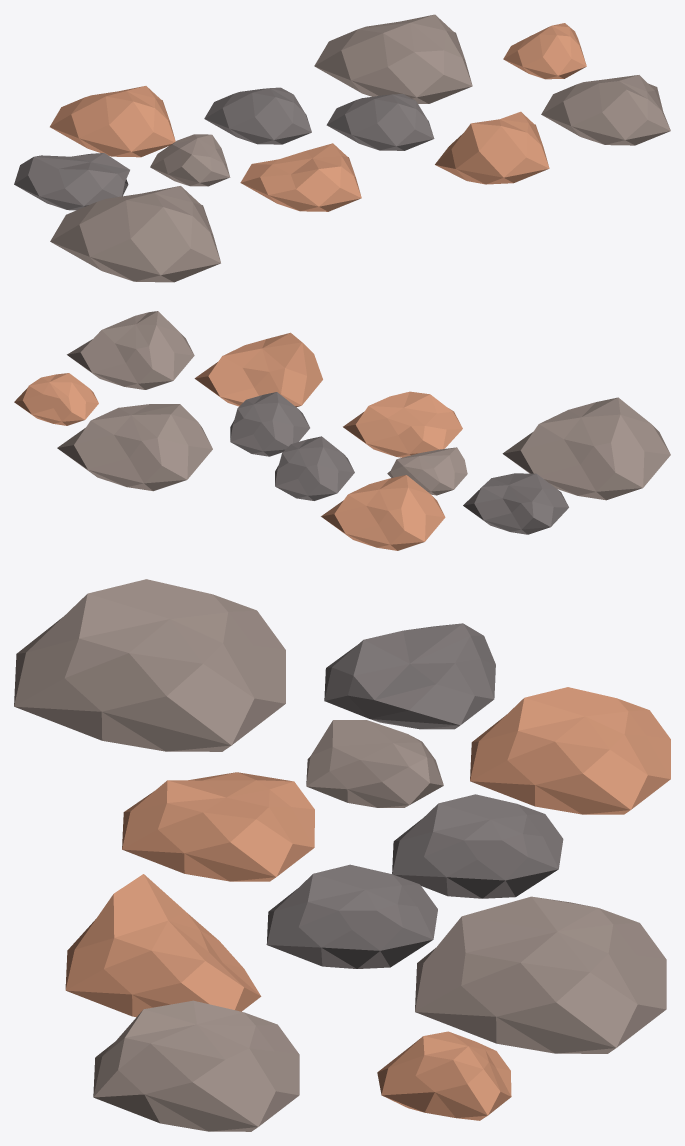
File: Kamencici.fbx
The picture shows the model from 3 angles, top to bottom: view 1: azimuth 30°, elevation 25°; view 2: azimuth 150°, elevation 25°; view 3: azimuth 270°, elevation 25°; orthographic projection. The views are drawn at different scales.
Parts seen in each view (by area): view 1: Gem; view 2: Gem; view 3: Gem.
Part boxes in pixels (x1,y1,x2,y2): Gem: (14,14,670,282); Gem: (14,311,670,550); Gem: (14,579,670,1131).
Size of the model in its own units: 258 by 31.13 by 142.
